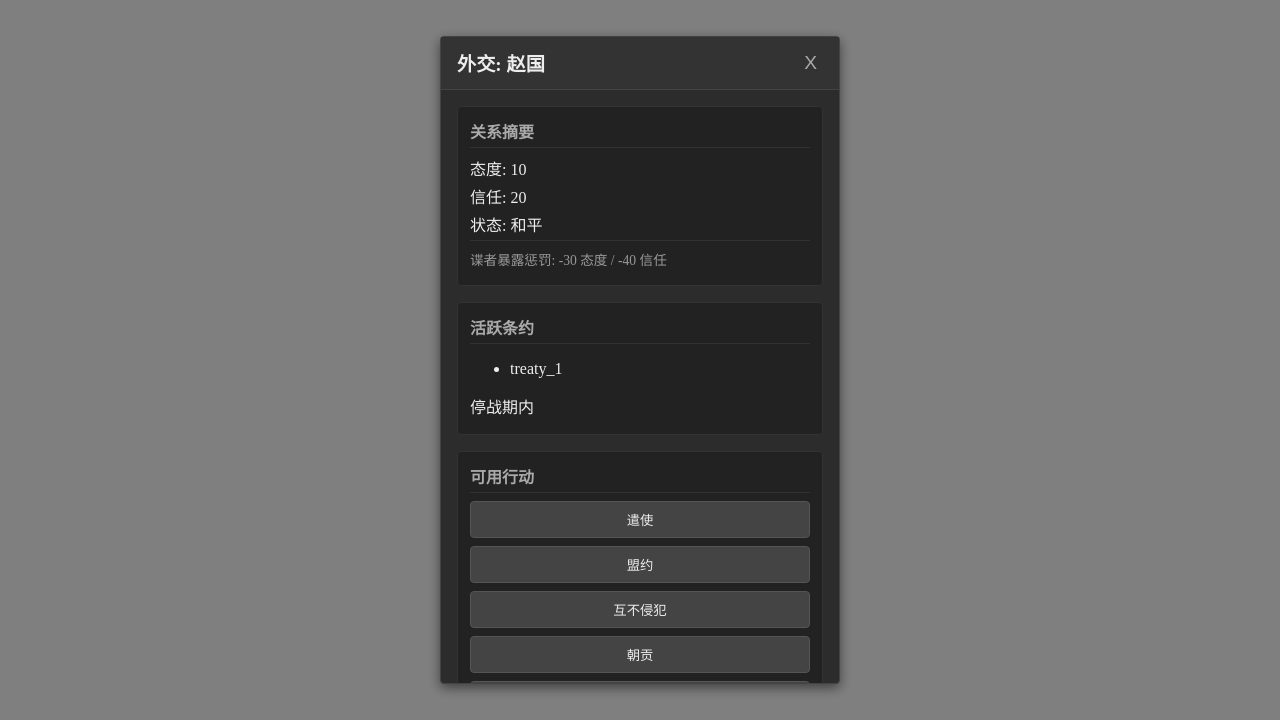
Test case: DiplomacyPanel › falls back to a generic localized rejection reason for unknown codes
The image size is (1280, 720).
Click the button with test id "diplomacy-action-alliance".
click(640, 564)  # box [470,546,810,583]
(page scrolled)
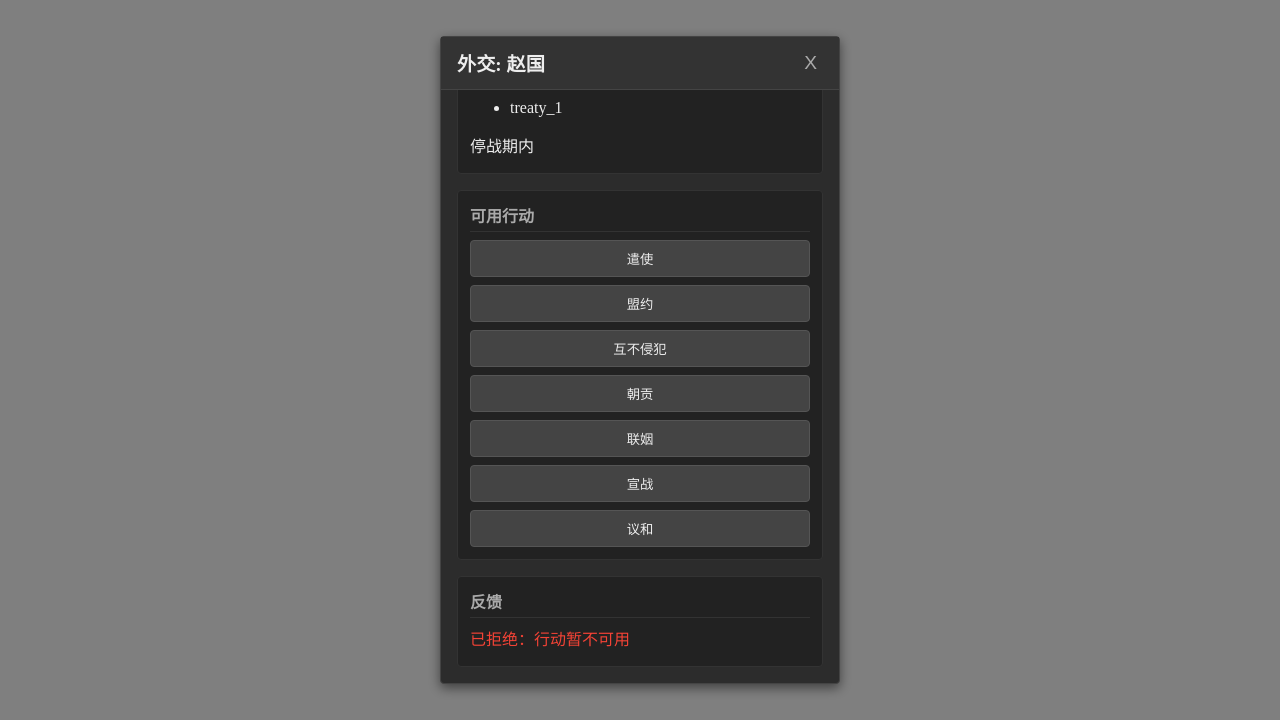
Expected: the element with test id "diplomacy-feedback" shows "已拒绝：行动暂不可用", [470,631,630,648]
